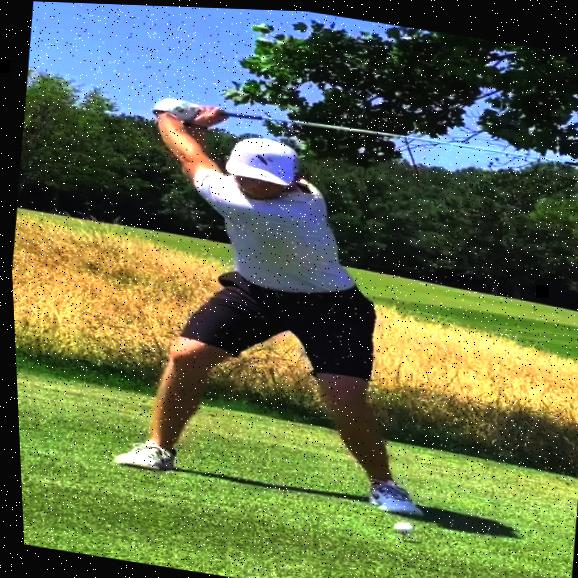ClubHead: (576, 155, 578, 186)
GolfBall: (386, 516, 412, 534)
